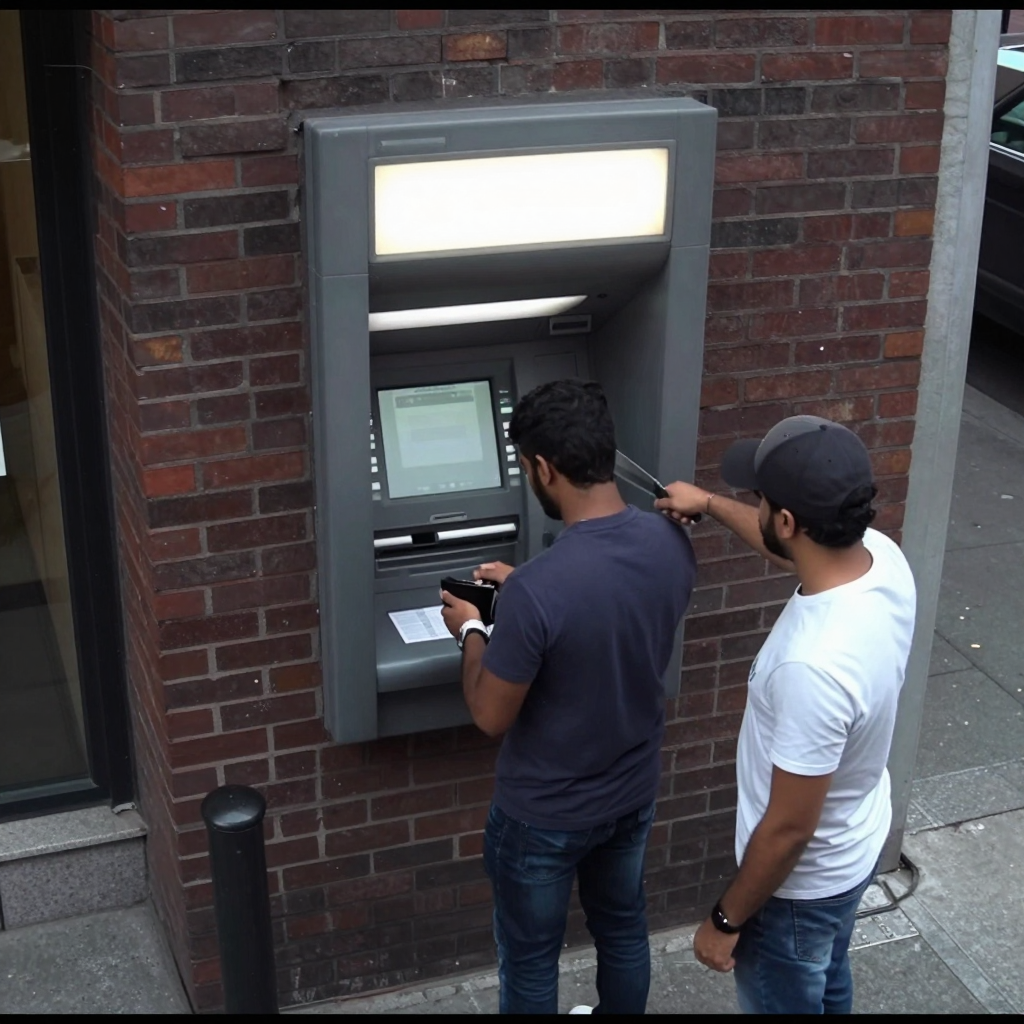Assault: (612, 440, 700, 525)
Robbery: (440, 377, 698, 1015), (654, 412, 919, 1016)
